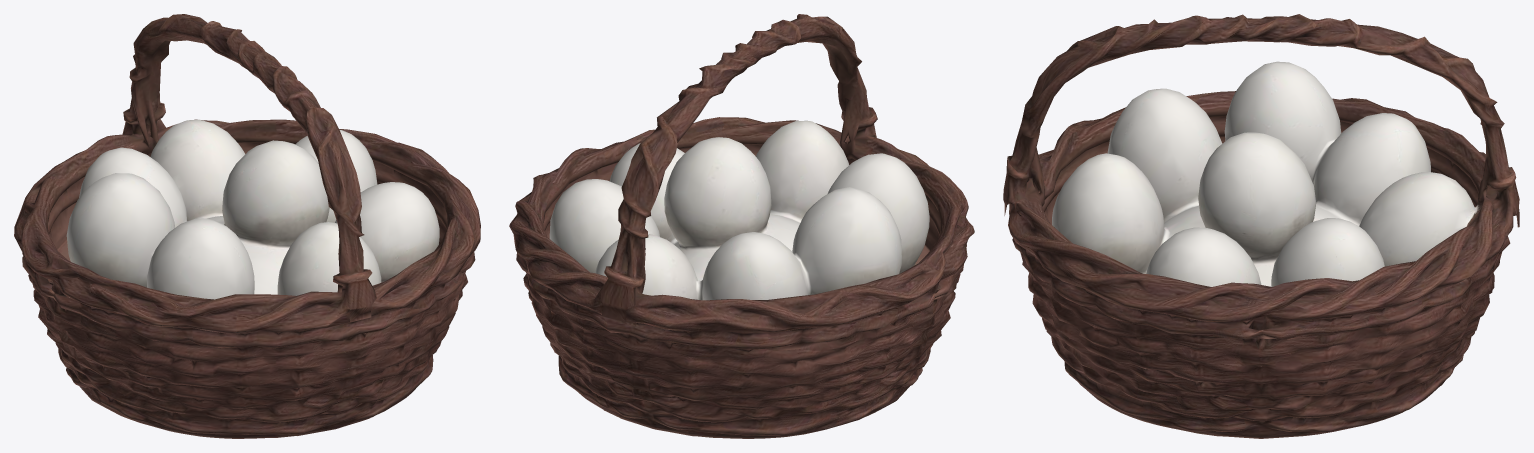
File: basket.glb
3 views of the same model, side by side, from view 1: azimuth 30°, elevation 25°; view 2: azimuth 150°, elevation 25°; view 3: azimuth 270°, elevation 25° (orthographic). The views are drawn at different scales.
Visible parts, largest first — view 1: tripo_node_992b3f3c-87a2-4d35-982d-feb4e6e6313a_0; view 2: tripo_node_992b3f3c-87a2-4d35-982d-feb4e6e6313a_0; view 3: tripo_node_992b3f3c-87a2-4d35-982d-feb4e6e6313a_0.
Boxes of the visible parts, x1,y1,x2,y2 form: tripo_node_992b3f3c-87a2-4d35-982d-feb4e6e6313a_0: [14, 14, 480, 438]; tripo_node_992b3f3c-87a2-4d35-982d-feb4e6e6313a_0: [509, 14, 974, 438]; tripo_node_992b3f3c-87a2-4d35-982d-feb4e6e6313a_0: [1003, 14, 1519, 438].
Size of the model in its own units: 0.9841 by 0.7372 by 0.9981.
1 material, 1 textured.
